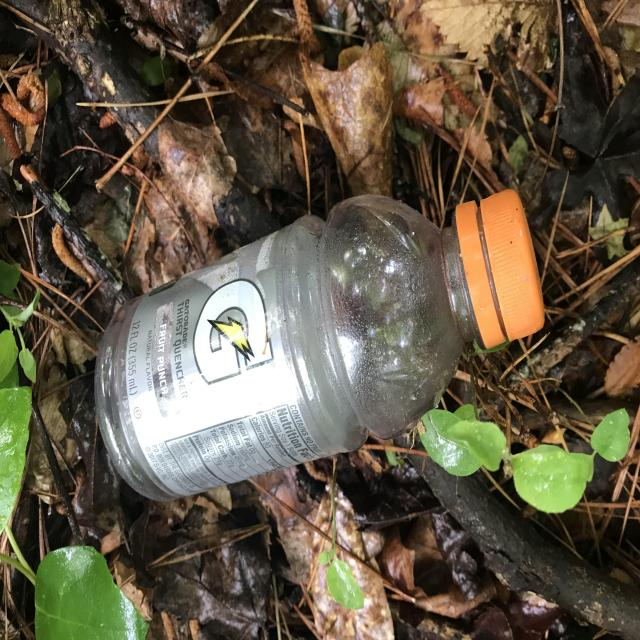litter: (96, 185, 546, 503)
